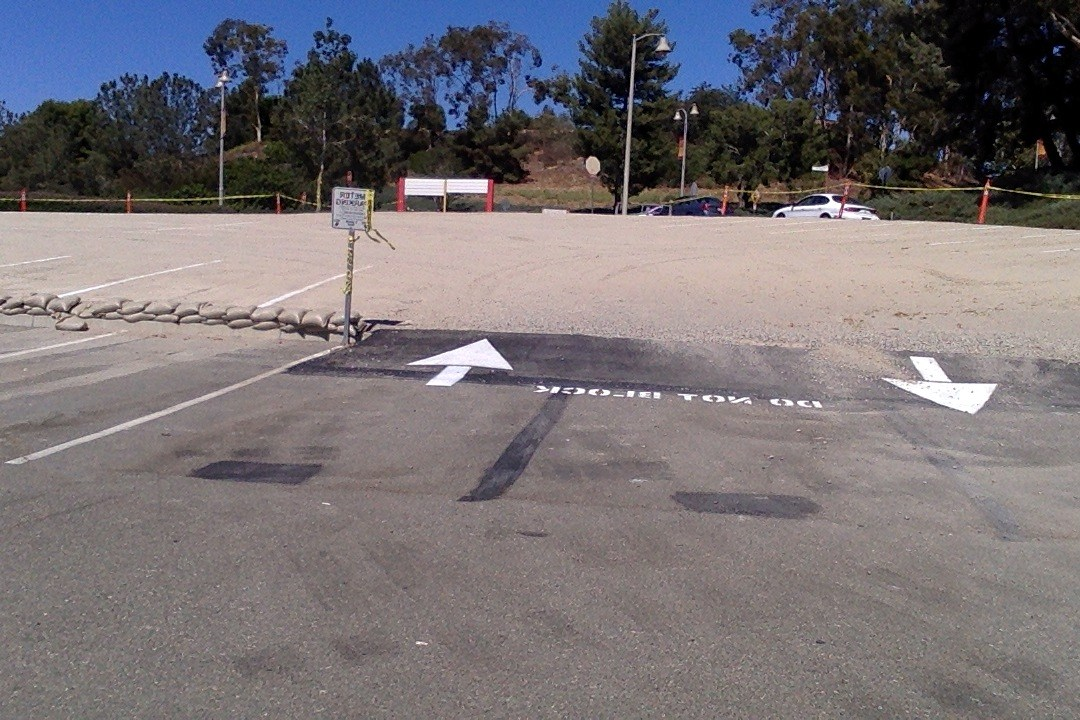empyt_space: (4, 324, 353, 476), (61, 256, 384, 308), (1, 250, 227, 296)
